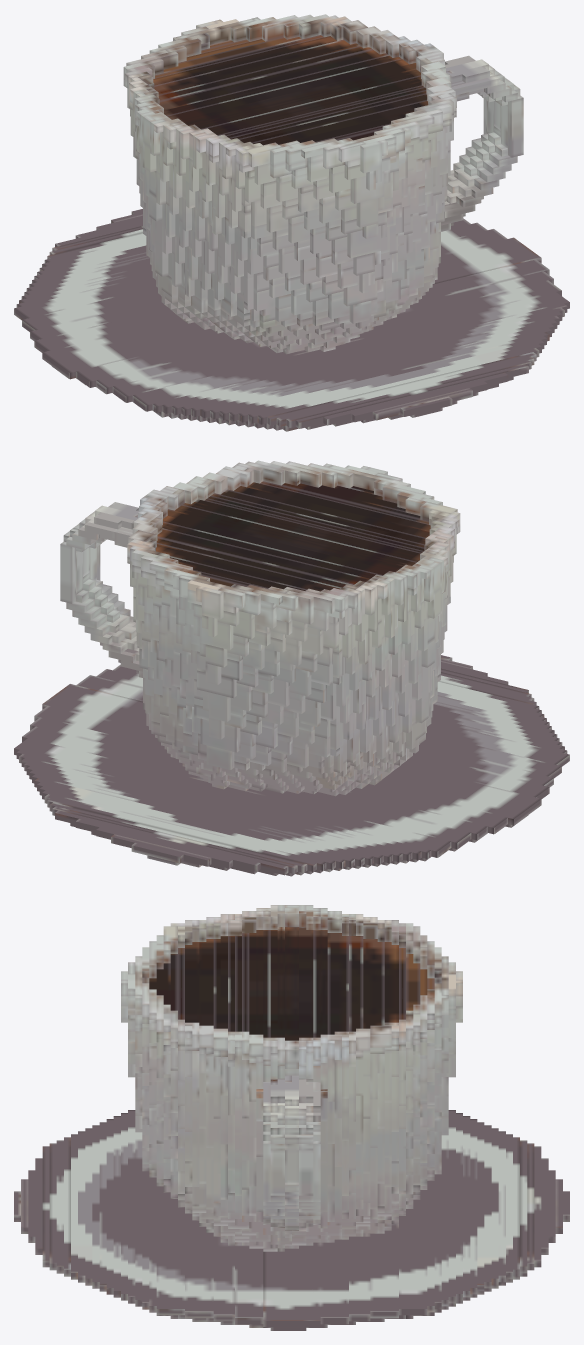
Rendered from cofee_mug.glb.
3 renders of one model, top to bottom at view 1: azimuth 30°, elevation 25°; view 2: azimuth 150°, elevation 25°; view 3: azimuth 270°, elevation 25°, orthographic. The views are drawn at different scales.
Parts seen in each view (by area): view 1: Object_2; view 2: Object_2; view 3: Object_2.
Boxes of the visible parts, x1,y1,x2,y2 form: Object_2: (14, 14, 569, 431); Object_2: (14, 460, 569, 876); Object_2: (14, 905, 569, 1330).
Size of the model in its own units: 19.5 by 10 by 19.5.
Materials: 1 (1 with a texture image).
